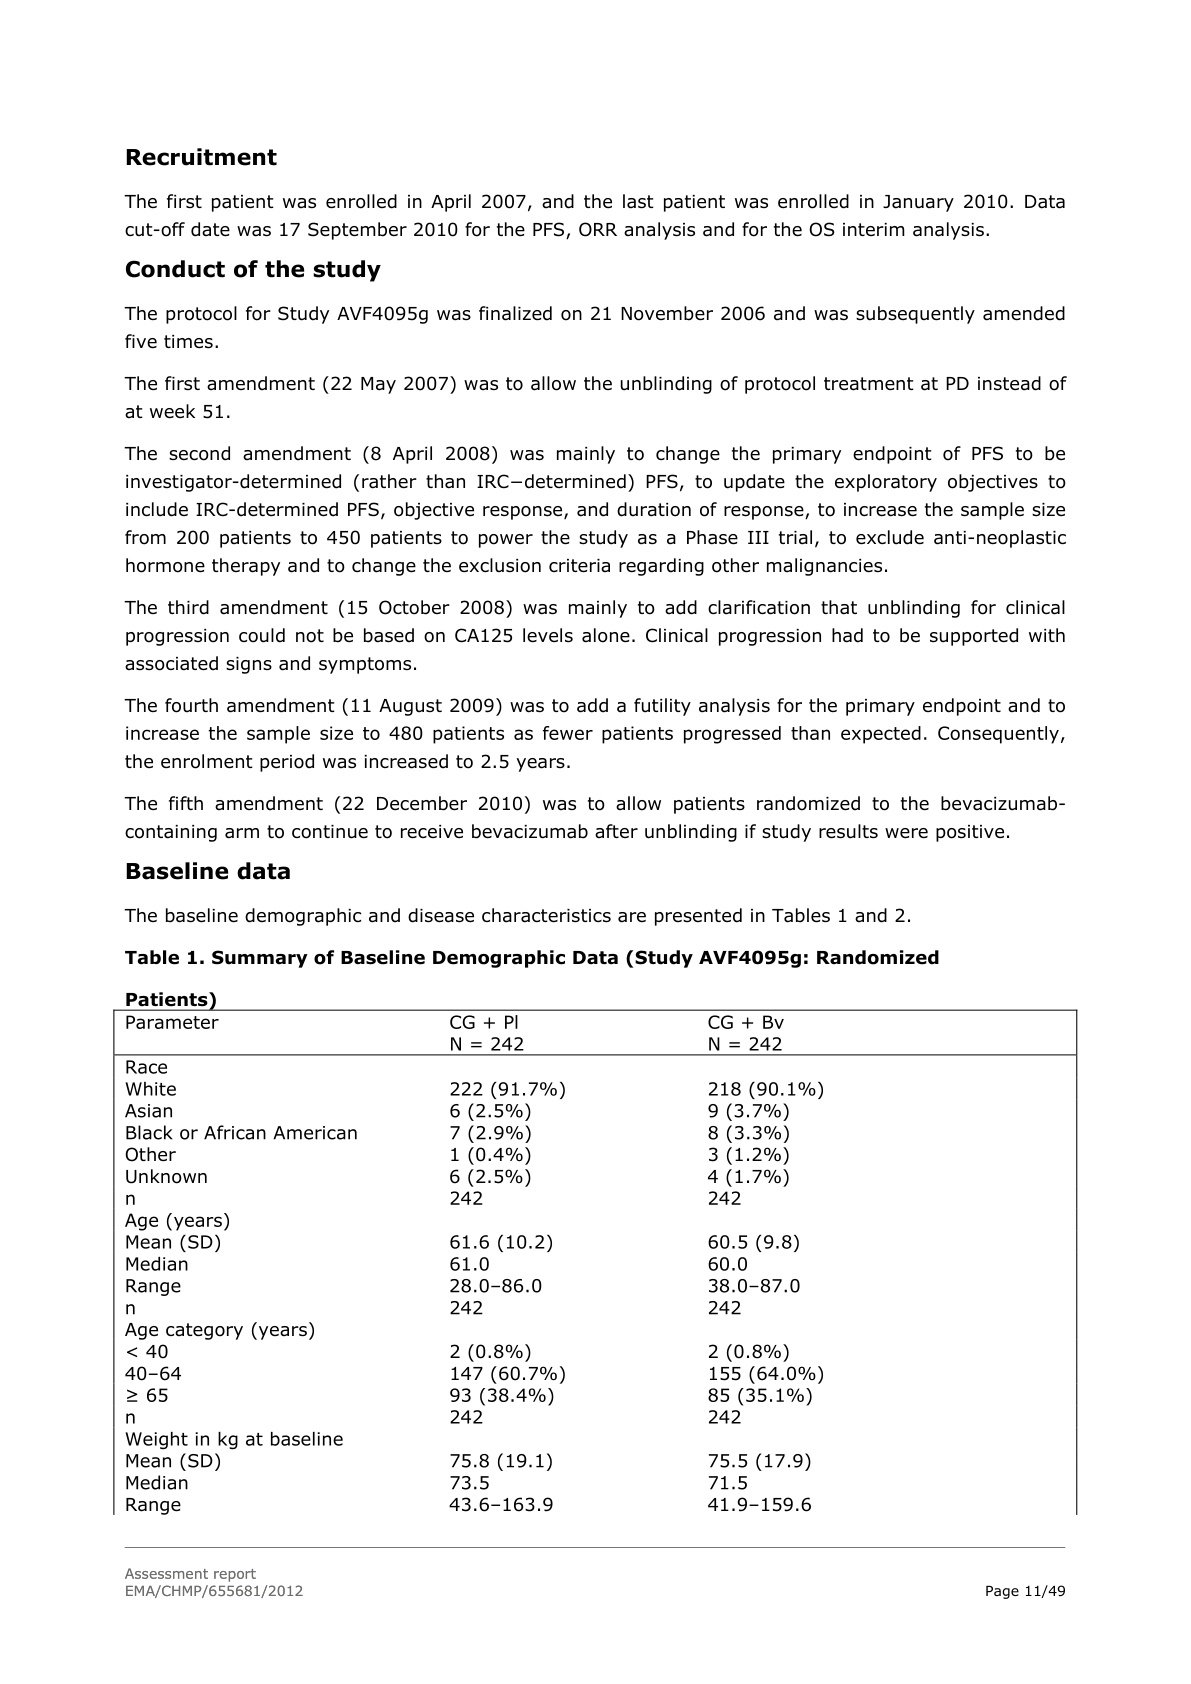partial_lined: (112, 1009, 1078, 1517)
